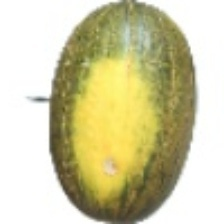honeydew: (33, 31, 206, 186)
